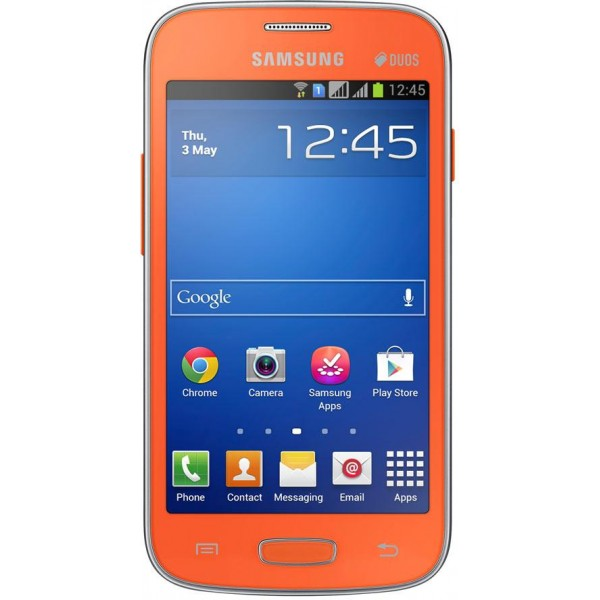mobile: (141, 6, 458, 595)
